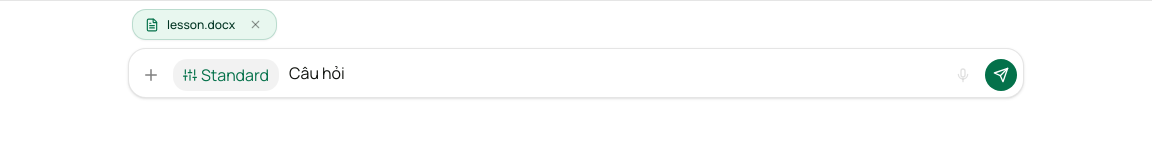
Test case: chat attachments › attaches files selected in the popup to the submitted question
This screenshot has width=1152, height=160.
Earlier steps of the test are not shown.
Expected: the text "lesson.docx" is shown, x1=167 y1=16 x2=235 y2=32
Step 1. Click the button titled "Gửi" → [1001, 75], box x1=985 y1=59 x2=1017 y2=91
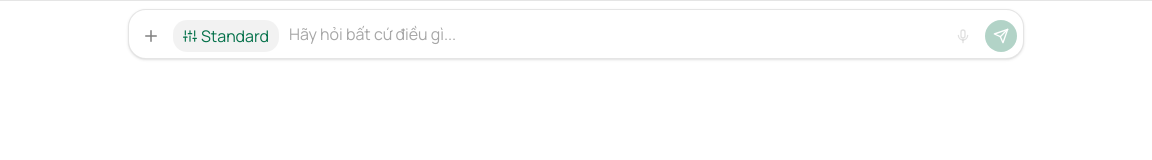
Expected: the text "lesson.docx" is gone
